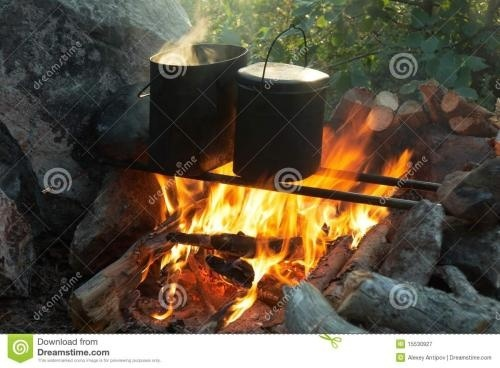fire: (153, 96, 396, 303), (160, 242, 195, 271)
